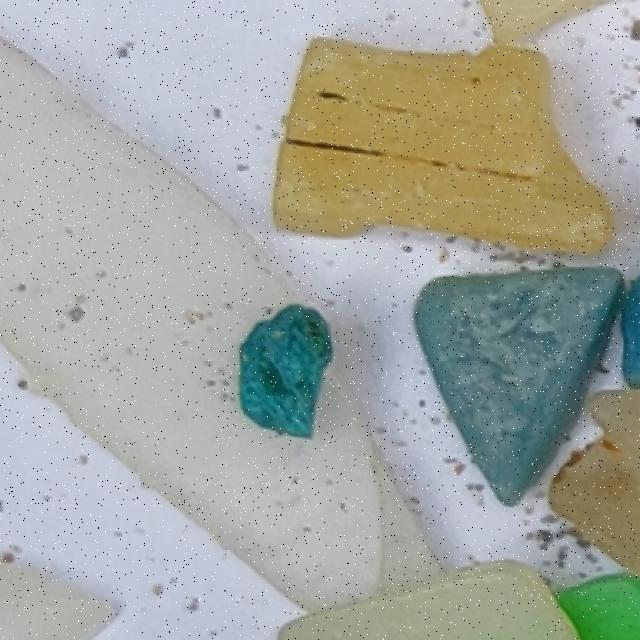fragments: (272, 35, 623, 253), (417, 269, 626, 506), (225, 296, 340, 439)
